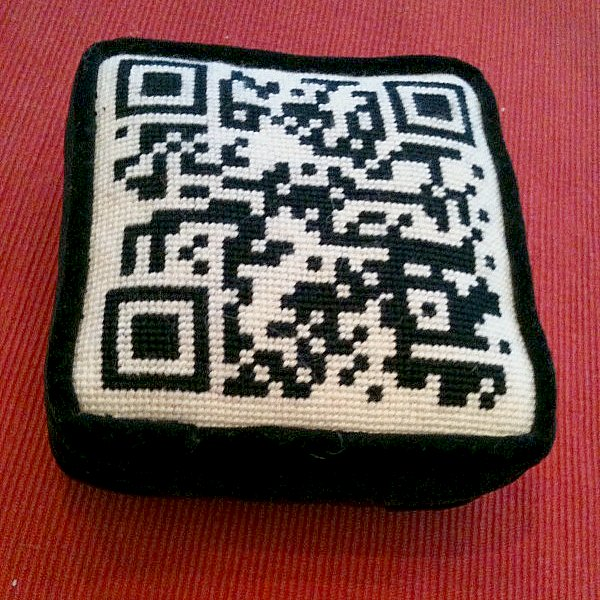QR-CODE: (102, 60, 514, 407)
